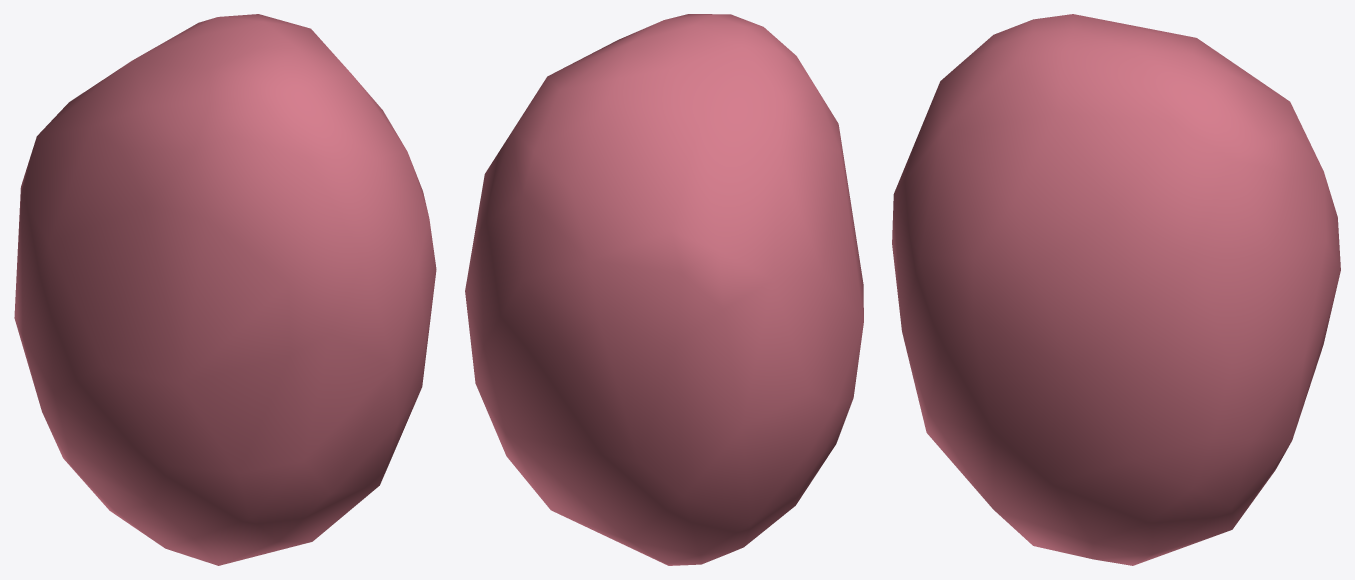
File: Testicle_left.glb
3 renders of one model, left to right at view 1: azimuth 30°, elevation 25°; view 2: azimuth 150°, elevation 25°; view 3: azimuth 270°, elevation 25°, orthographic. The views are drawn at different scales.
Parts seen in each view (by area): view 1: Testicle.l_Generated_Mesh_From_X3D.752; view 2: Testicle.l_Generated_Mesh_From_X3D.752; view 3: Testicle.l_Generated_Mesh_From_X3D.752.
Part boxes in pixels (bbox=[...]): Testicle.l_Generated_Mesh_From_X3D.752: bbox=[14, 14, 436, 565]; Testicle.l_Generated_Mesh_From_X3D.752: bbox=[465, 14, 863, 565]; Testicle.l_Generated_Mesh_From_X3D.752: bbox=[892, 14, 1340, 565].
Bounding box in the file's own units: 0.0214 × 0.0297 × 0.0233.
